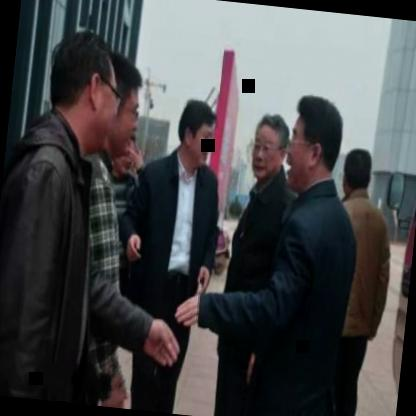head: (38, 23, 122, 158), (280, 88, 346, 191), (92, 51, 144, 162), (245, 106, 292, 186), (172, 94, 218, 167), (334, 143, 376, 204)
